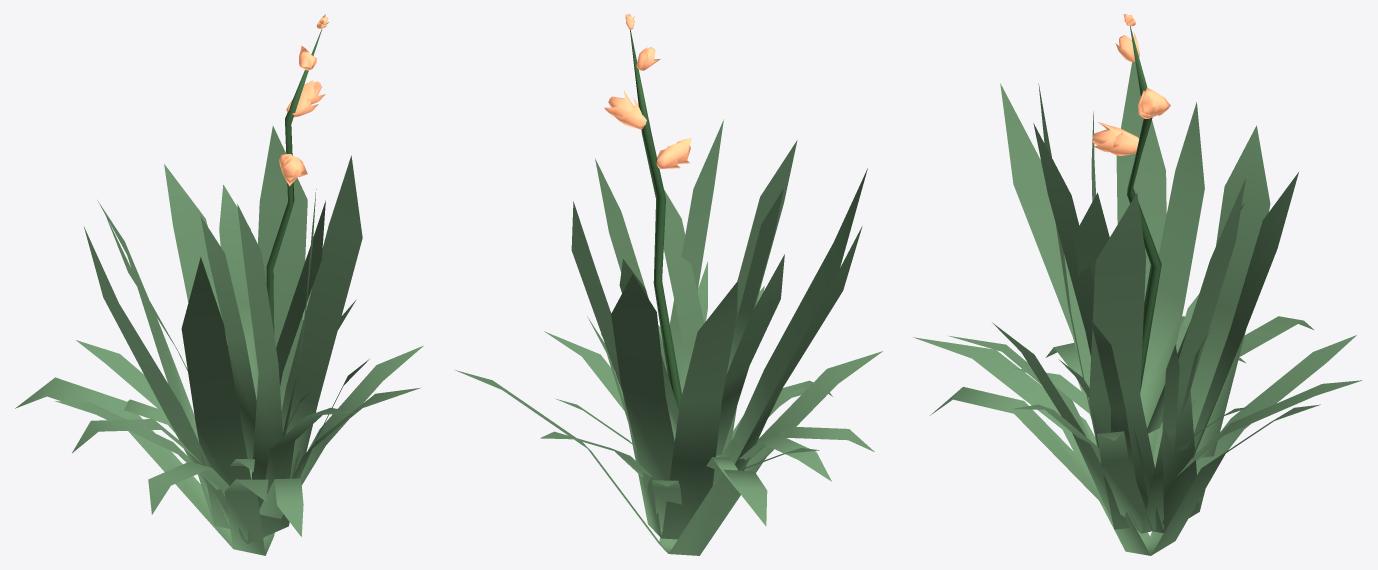
File: Hartke plant.fbx
3 views of the same model, side by side, from view 1: azimuth 30°, elevation 25°; view 2: azimuth 150°, elevation 25°; view 3: azimuth 270°, elevation 25° (orthographic). The views are drawn at different scales.
Parts seen in each view (by area): view 1: Plane_011, Plane_012; view 2: Plane_011, Plane_012; view 3: Plane_011, Plane_012.
Boxes of the visible parts, x1,y1,x2,y2 form: Plane_011: (15, 126, 423, 555); Plane_012: (266, 14, 328, 334); Plane_011: (455, 119, 882, 555); Plane_012: (604, 14, 691, 409); Plane_011: (913, 61, 1362, 555); Plane_012: (1092, 14, 1170, 389).
Size of the model in its own units: 0.2755 by 0.4159 by 0.2984.
